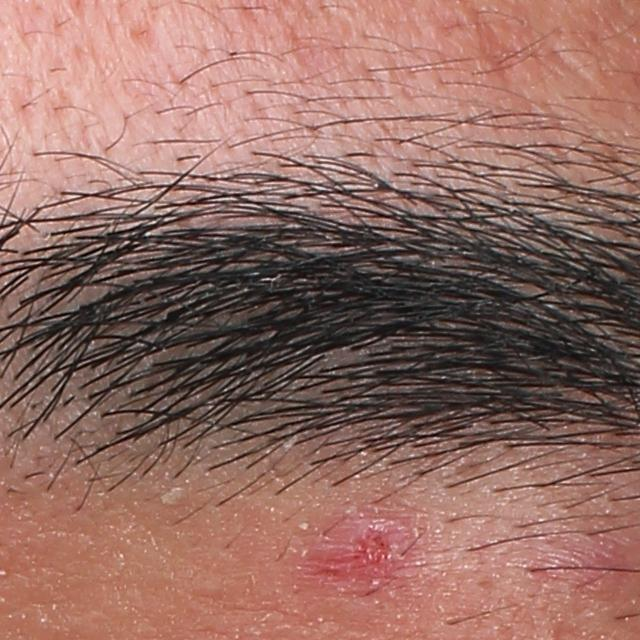papule: (318, 520, 407, 591)
